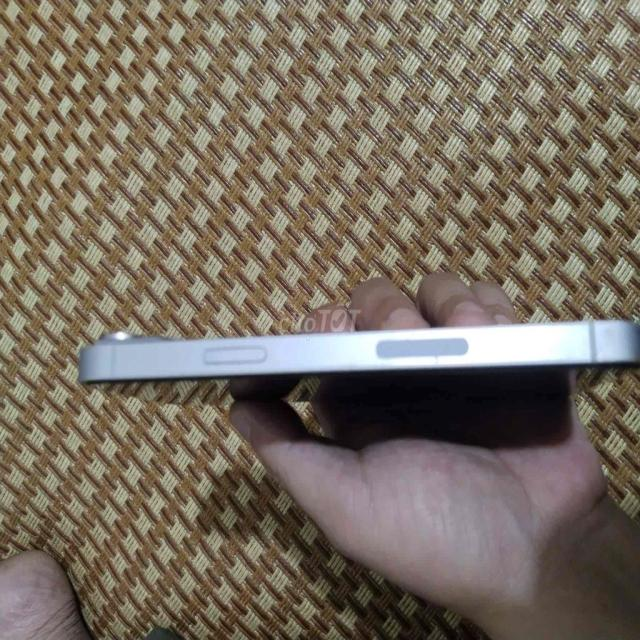gen_14: (73, 320, 640, 405)
